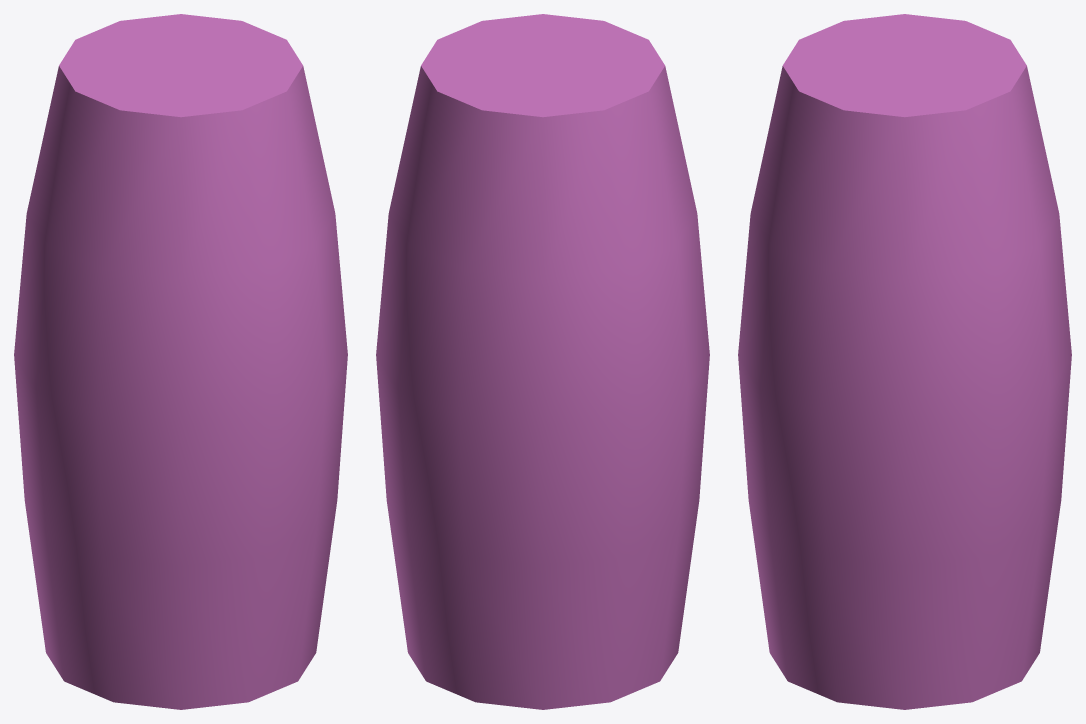
Rendered from Barrel_Tall.fbx.
The picture shows the model from 3 angles, left to right: view 1: azimuth 30°, elevation 25°; view 2: azimuth 150°, elevation 25°; view 3: azimuth 270°, elevation 25°; orthographic projection.
Parts seen in each view (by area): view 1: Barrel_Tall; view 2: Barrel_Tall; view 3: Barrel_Tall.
Boxes of the visible parts, x1,y1,x2,y2 form: Barrel_Tall: (14, 14, 347, 709); Barrel_Tall: (376, 14, 709, 709); Barrel_Tall: (738, 14, 1071, 709).
Size of the model in its own units: 65.79 by 128 by 65.79.
